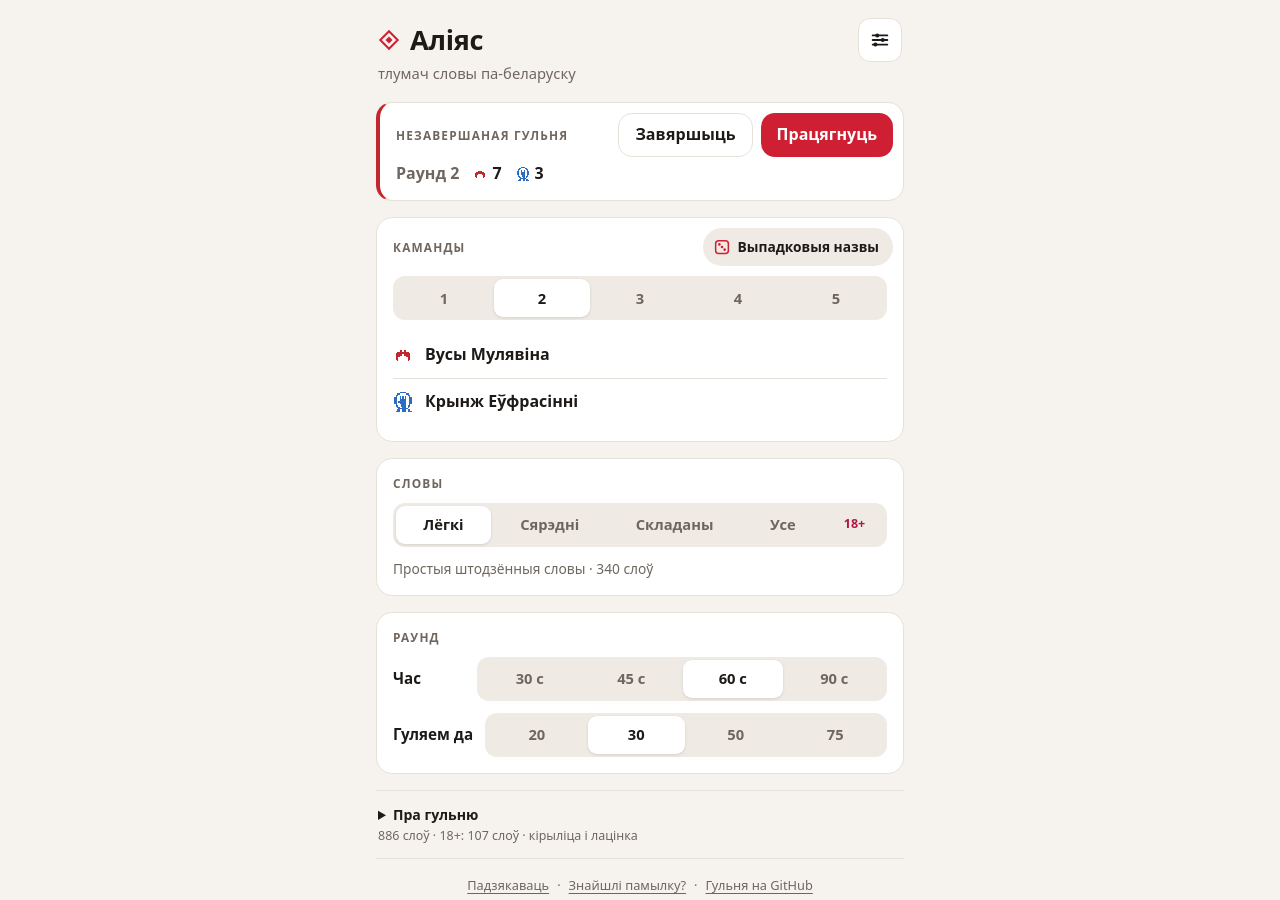
it: SetupScreen › незавершаную гульню можна завяршыць з плашкі — толькі пасля пацвярджэння
Click the button "Завяршыць" at (686, 135), box [618,113,753,157]
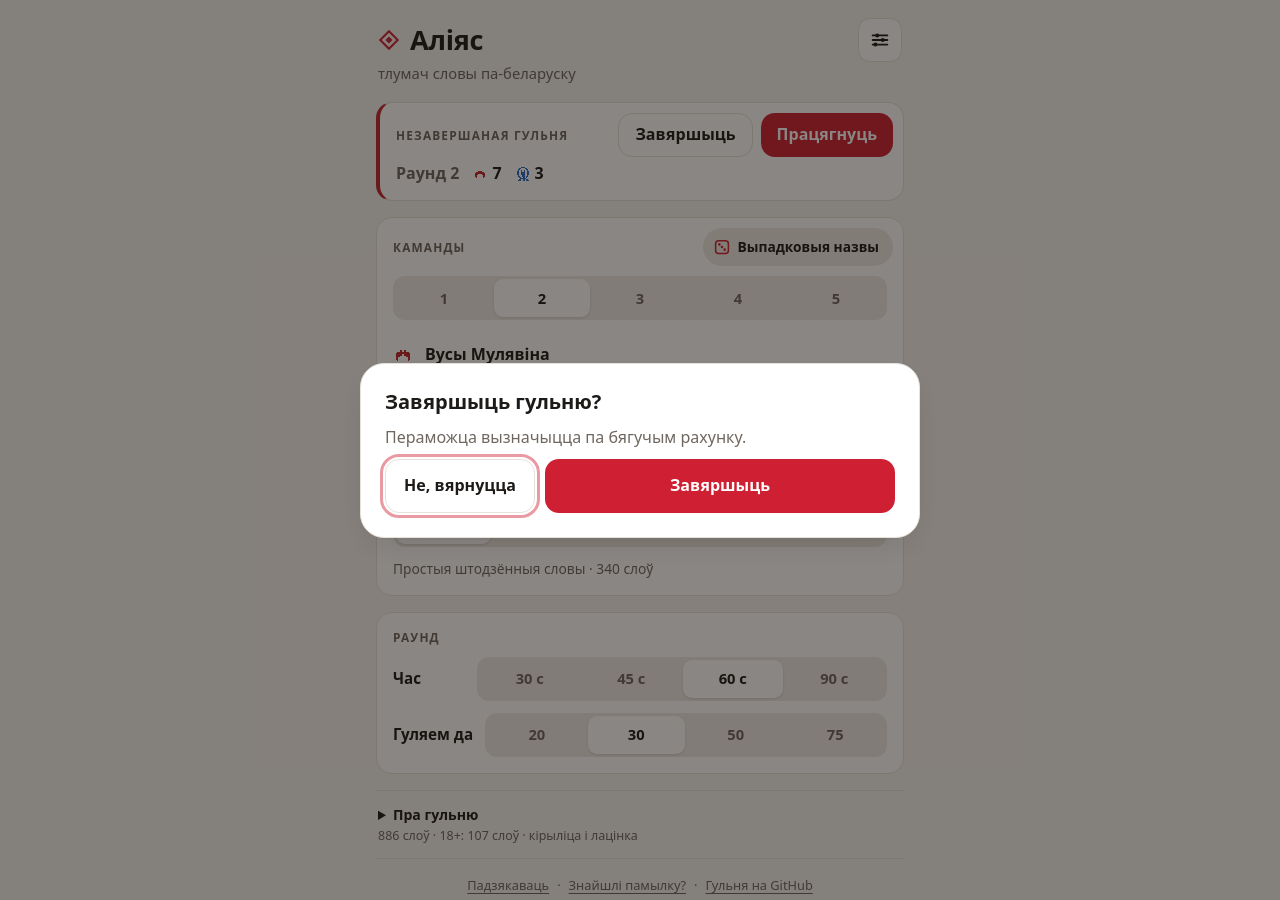
Expected: the dialog "Завяршыць гульню?" shows "Пераможца вызначыцца па бягучым рахунку.", [385,426,746,448]
Click the button "Не, вярнуцца" at (460, 486), box [385,458,535,512]
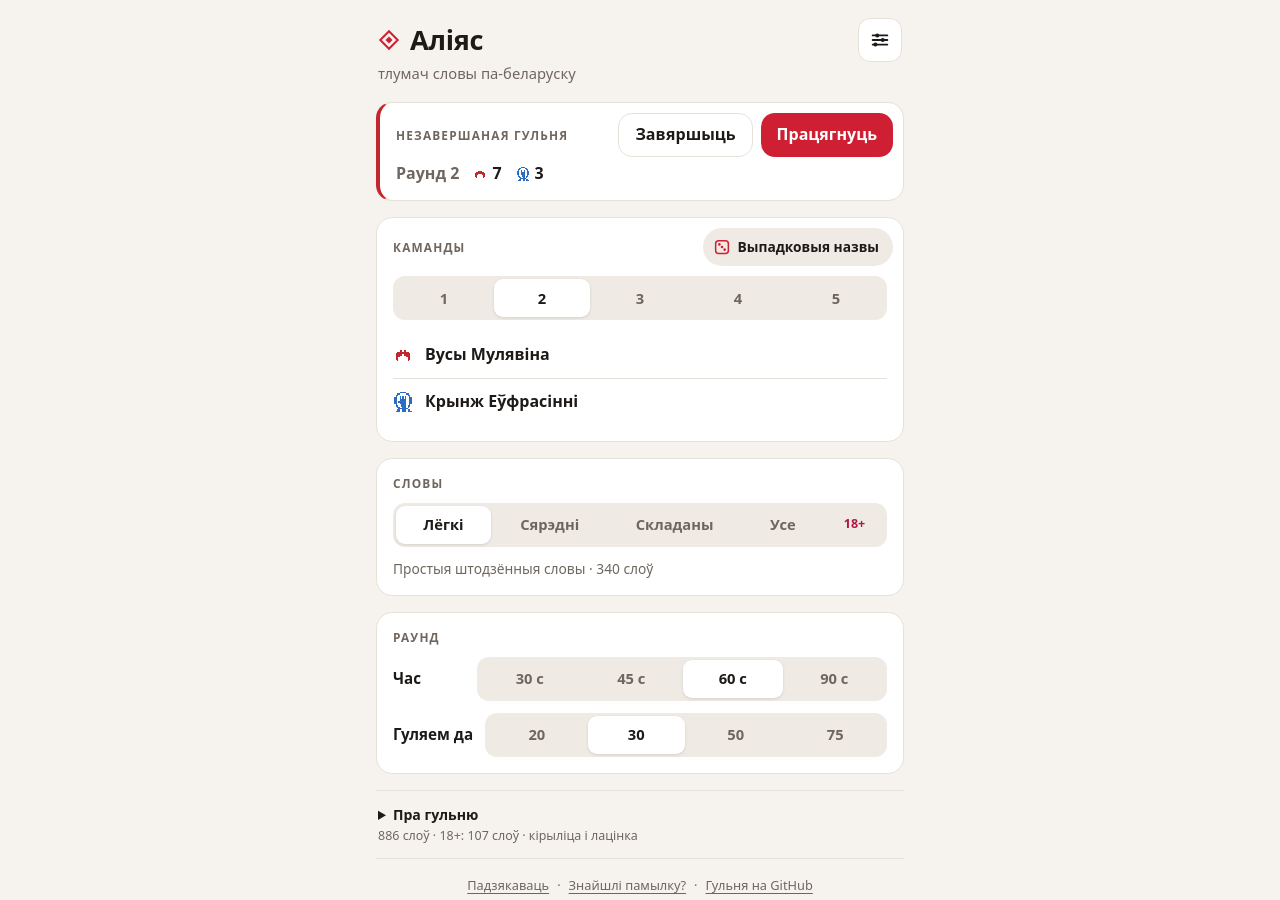
Expected: the dialog is gone
Click the button "Завяршыць" at (686, 135), box [618,113,753,157]
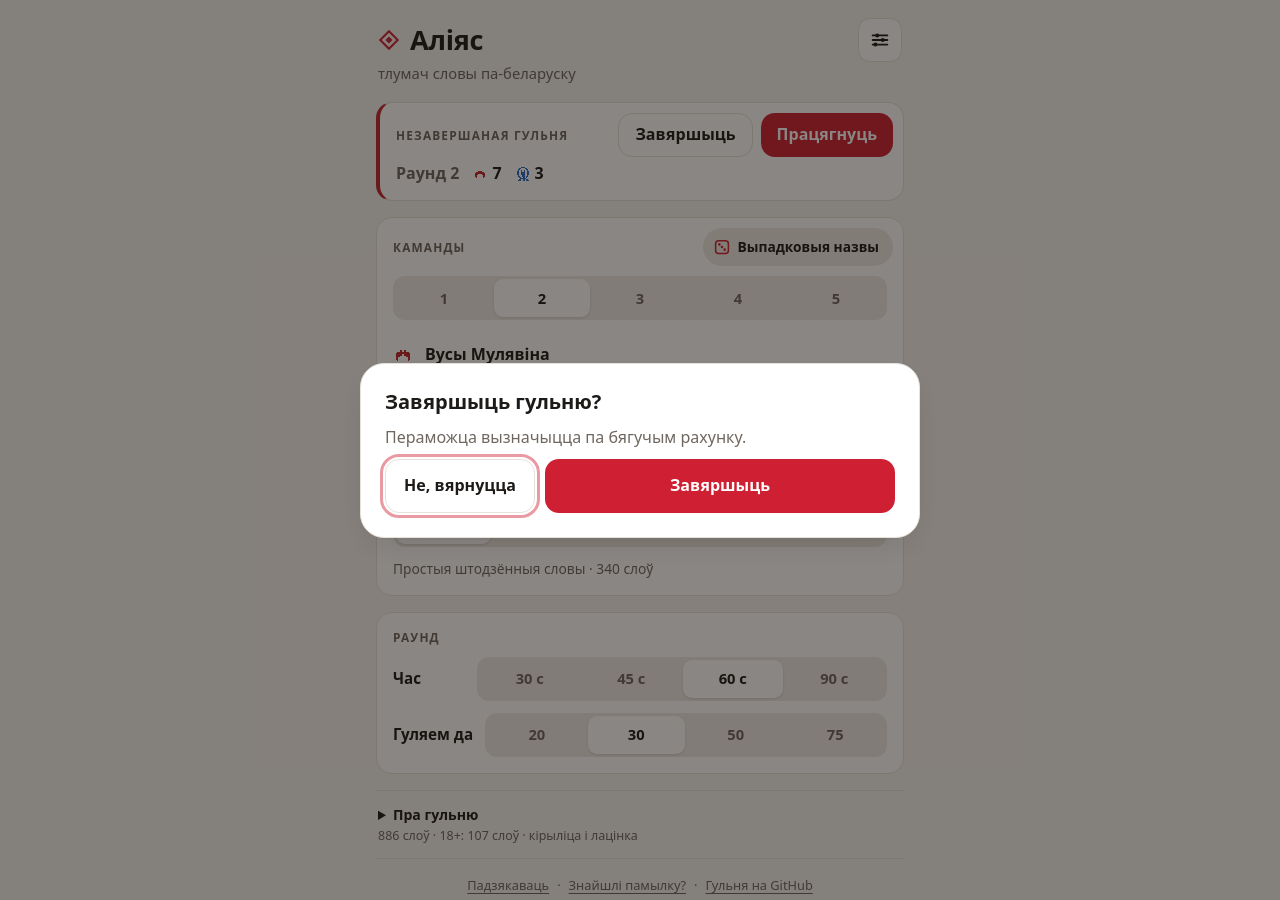
Click the button "Завяршыць" at (720, 486), box [545,458,895,512]
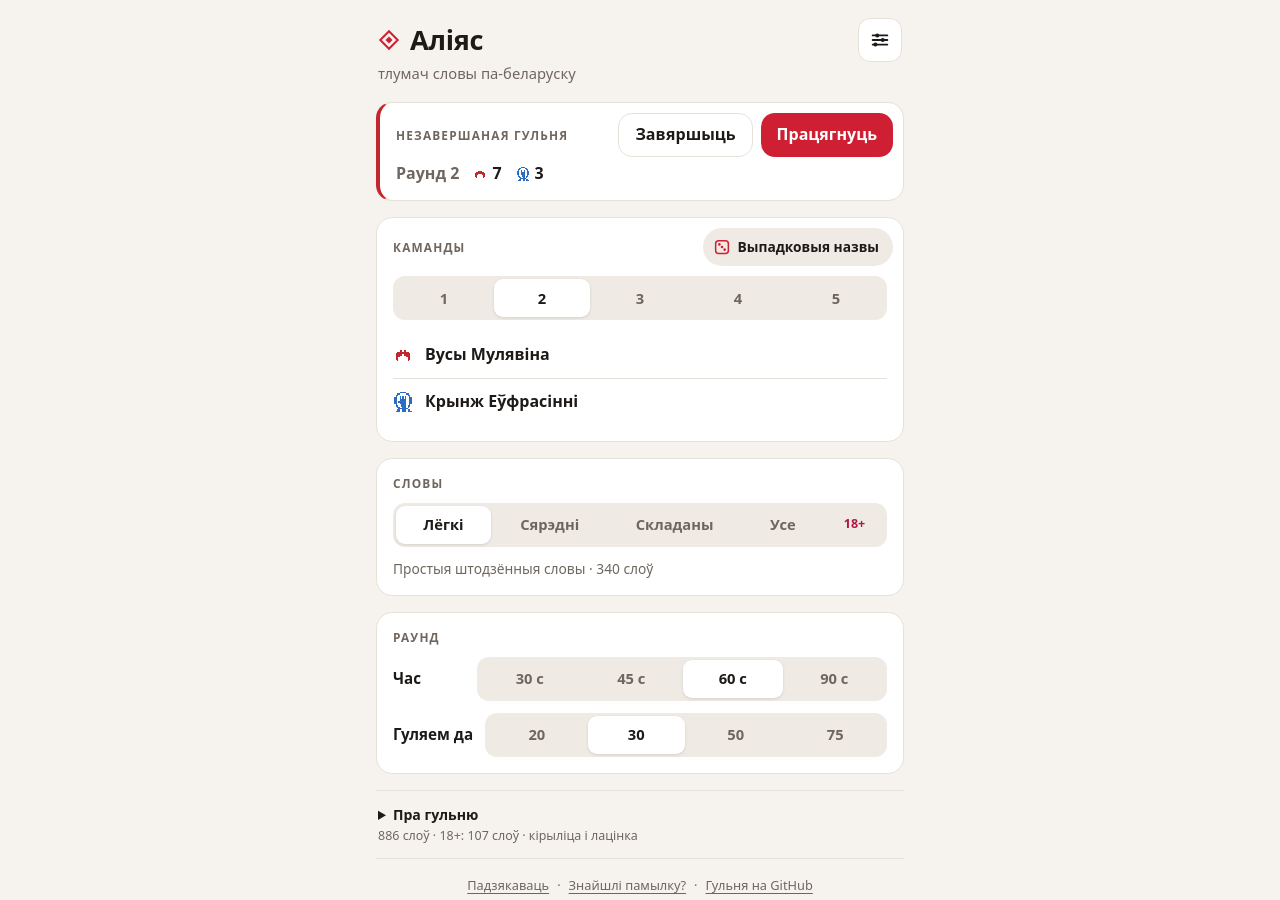
Expected: the dialog is gone
